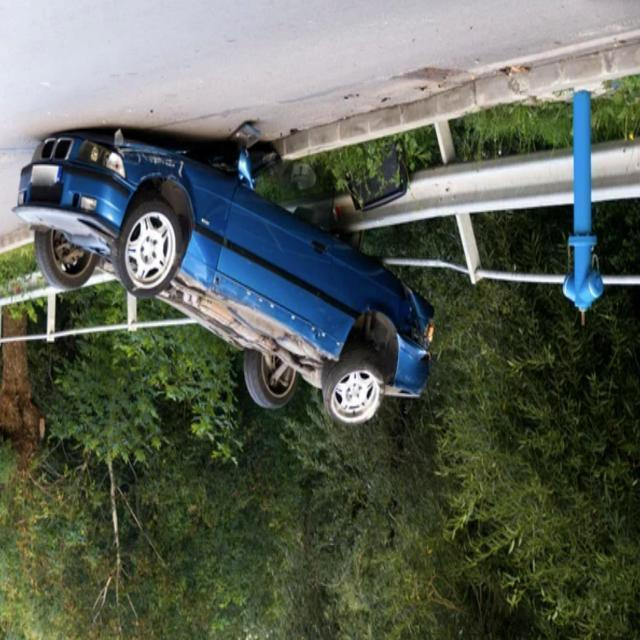severe: (9, 118, 437, 437)
